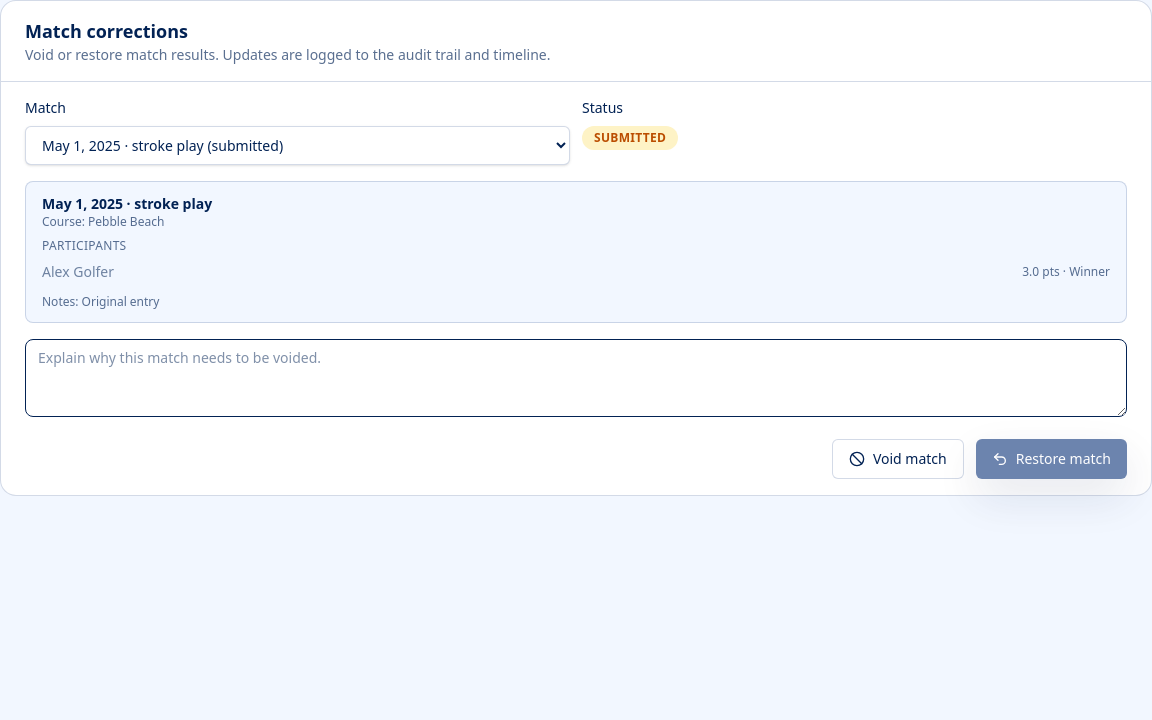
Scenario: MatchCorrectionsPanel › sends a PATCH request when voiding a match
The width and height of the screenshot is (1152, 720).
Type "Scoring error" into the text box with placeholder "Explain why this match needs to be voided." at (576, 378), box [25, 339, 1127, 417]
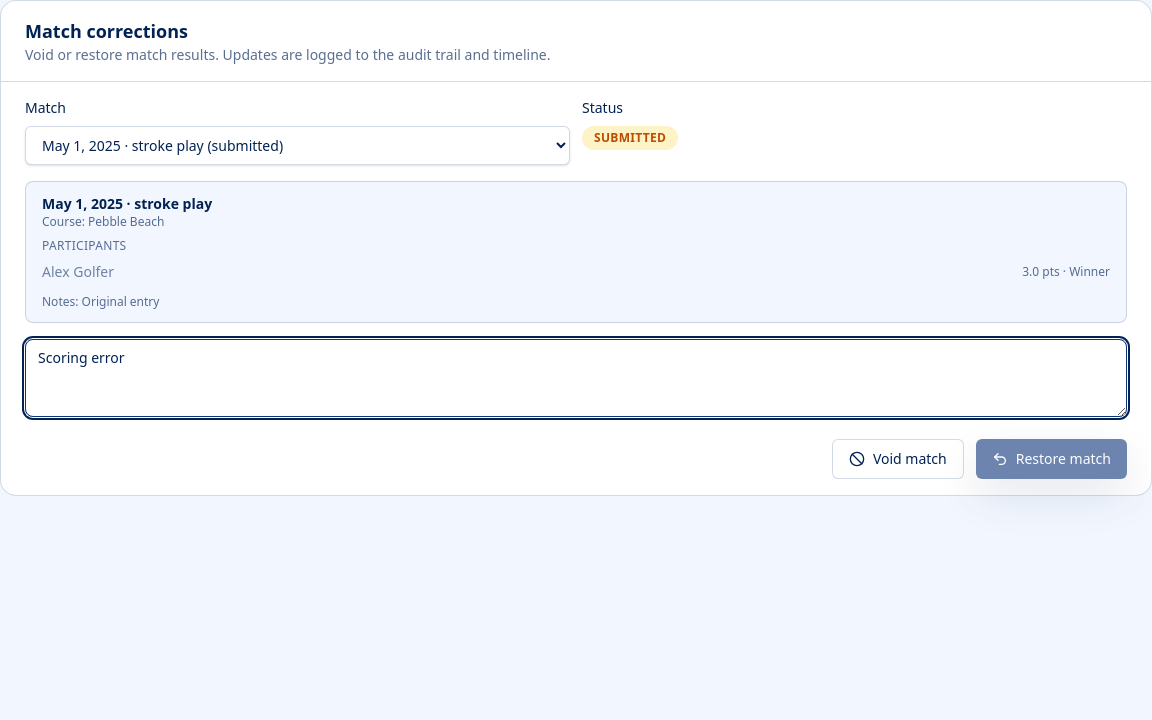
Click the button "Void match" at (898, 459), box [832, 439, 964, 479]
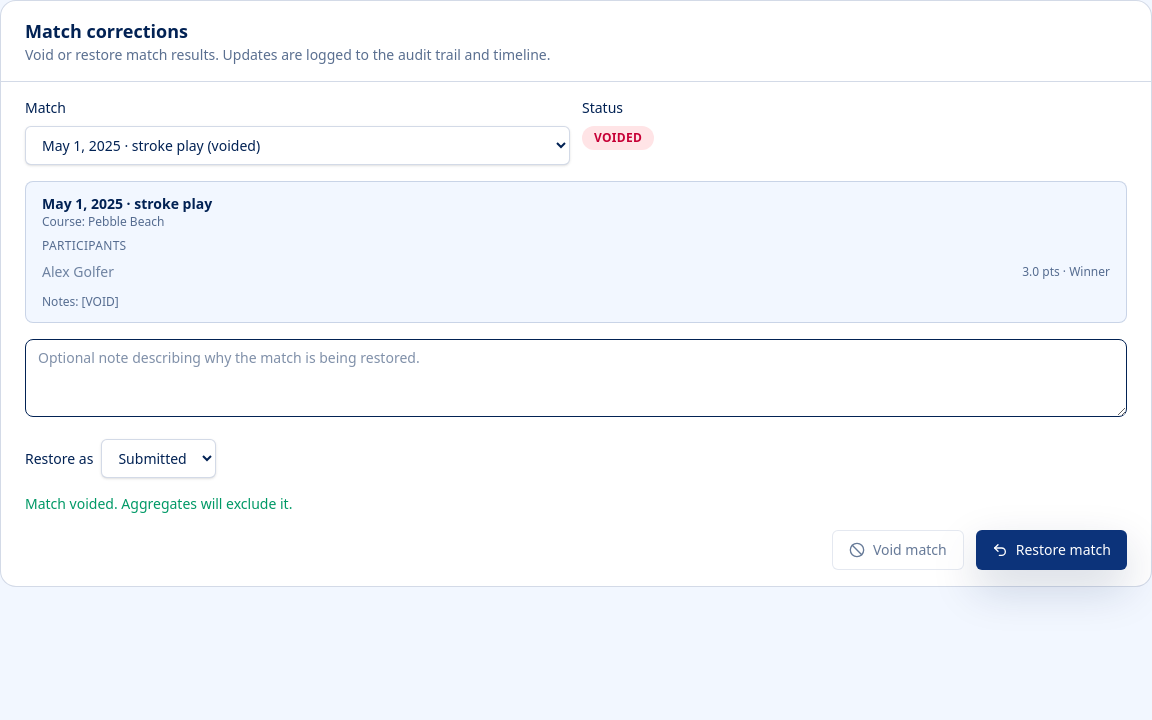
Expected: the text "Match voided. Aggregates will exclude it." is shown, [25, 494, 292, 513]
